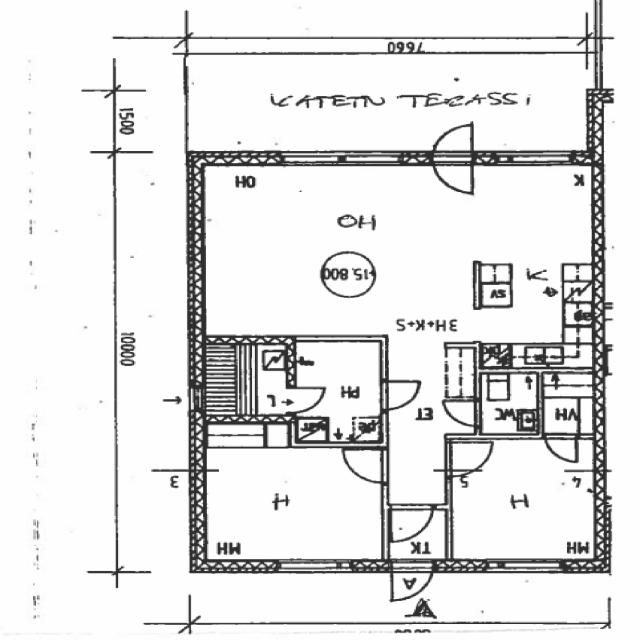door: (386, 502, 436, 544), (388, 558, 435, 602), (430, 154, 477, 198), (339, 446, 388, 484), (448, 436, 494, 476), (430, 122, 479, 158), (378, 378, 422, 412), (542, 433, 582, 466), (288, 384, 328, 416), (441, 397, 482, 428)
window: (490, 148, 577, 170), (277, 558, 344, 575), (493, 559, 563, 575), (342, 150, 402, 168), (585, 46, 607, 92)
zone: (202, 160, 596, 344), (199, 443, 388, 562), (448, 438, 600, 564), (292, 340, 386, 445), (198, 337, 293, 422), (479, 370, 541, 437), (541, 371, 600, 434), (540, 390, 594, 436)
